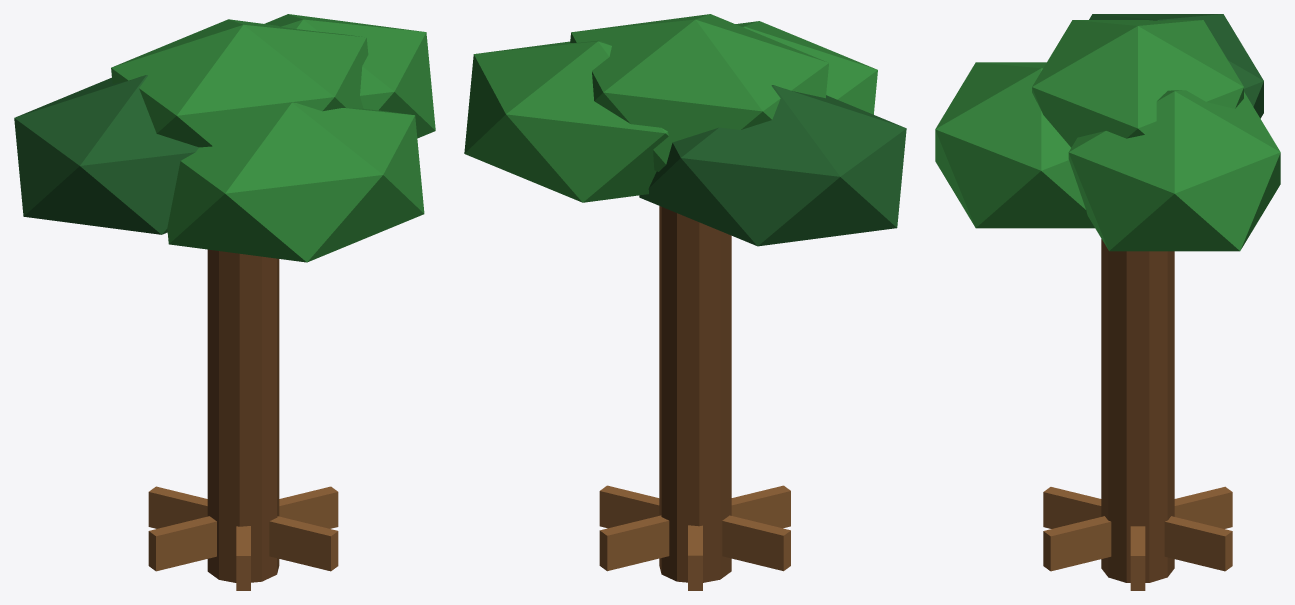
Rendered from SM_ButtressTree_A.glb.
The picture shows the model from 3 angles, left to right: view 1: azimuth 30°, elevation 25°; view 2: azimuth 150°, elevation 25°; view 3: azimuth 270°, elevation 25°; orthographic projection.
Parts seen in each view (by area): view 1: SM_ButtressTree_A; view 2: SM_ButtressTree_A; view 3: SM_ButtressTree_A.
Part boxes in pixels (x1,y1,x2,y2): SM_ButtressTree_A: (14,14,435,590); SM_ButtressTree_A: (464,14,906,590); SM_ButtressTree_A: (935,14,1280,590).
Bounding box in the file's own units: 7.11 × 8.98 × 5.18.
